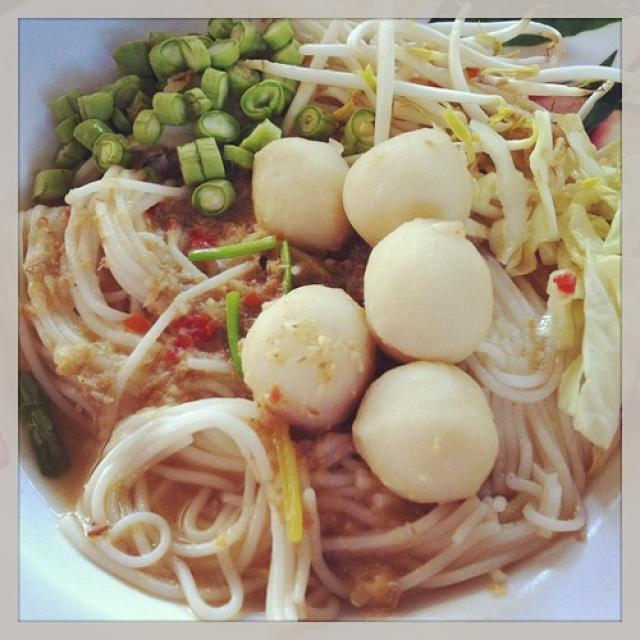面条主食: (36, 34, 591, 594)
